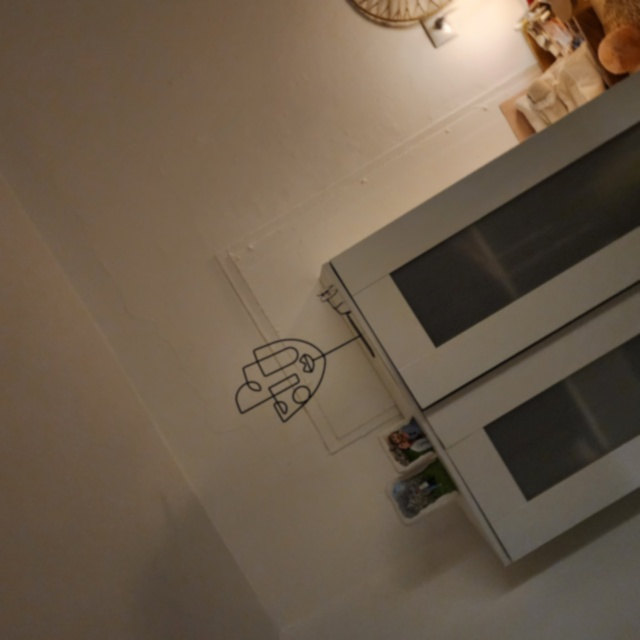glasses: (313, 281, 357, 318)
